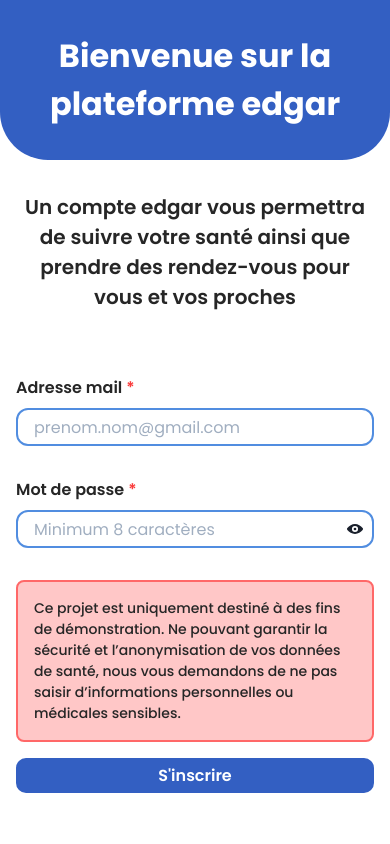
it: Signup Page tests - Mobile › Working page › Error states › No password
In the field with id "edgar-signupPage-formEmail-input": (195,427) [16,408,374,446], type "prenom.nom@test.fr"
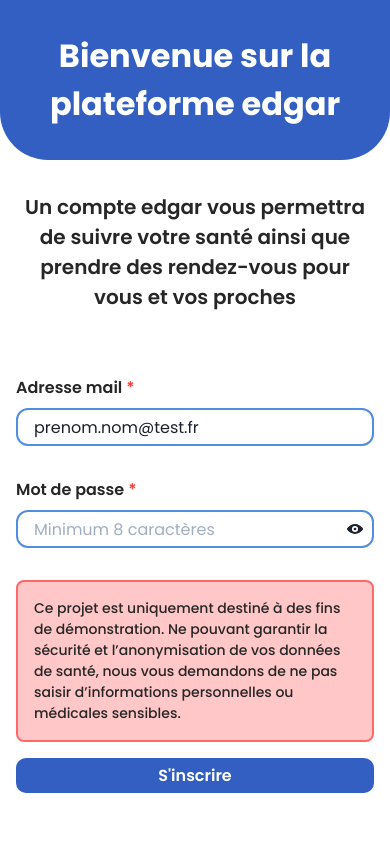
Click the button with id "edgar-signupPage-form-button": (195,776) [16,758,374,793]
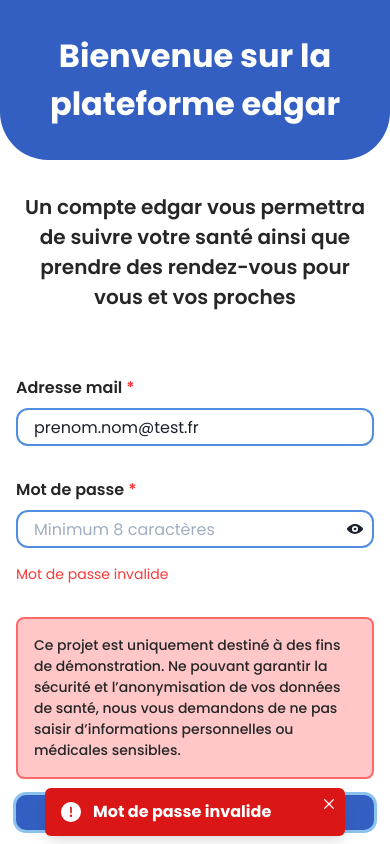
Result: the text with id "edgar-signupPage-formPasswordError-text" reads "Mot de passe invalide" at [16,564,169,585]
